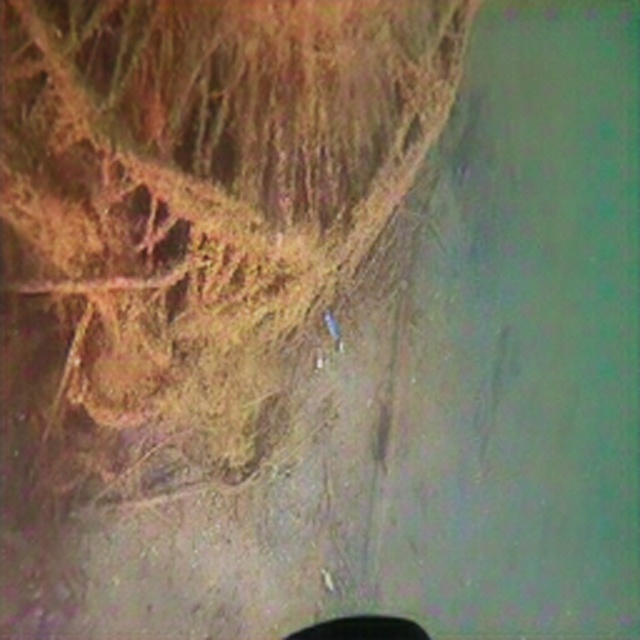mine: (0, 0, 474, 351)
